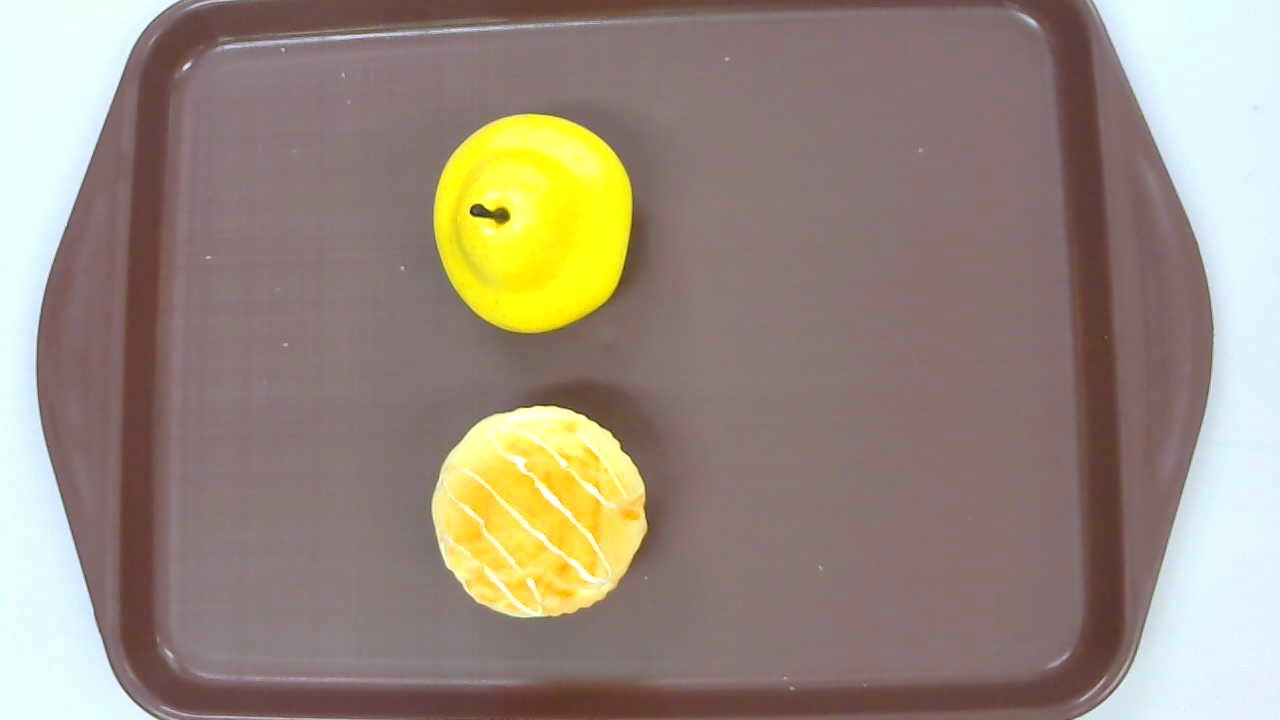cupcake: (431, 403, 647, 619)
yellow pear: (434, 113, 634, 334)
